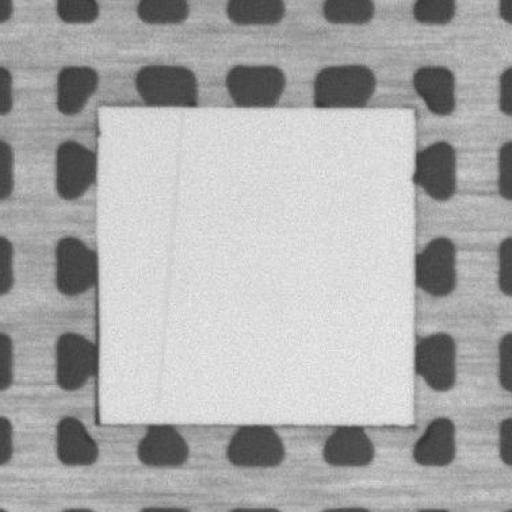DIE_CRACK: (157, 112, 181, 401)
